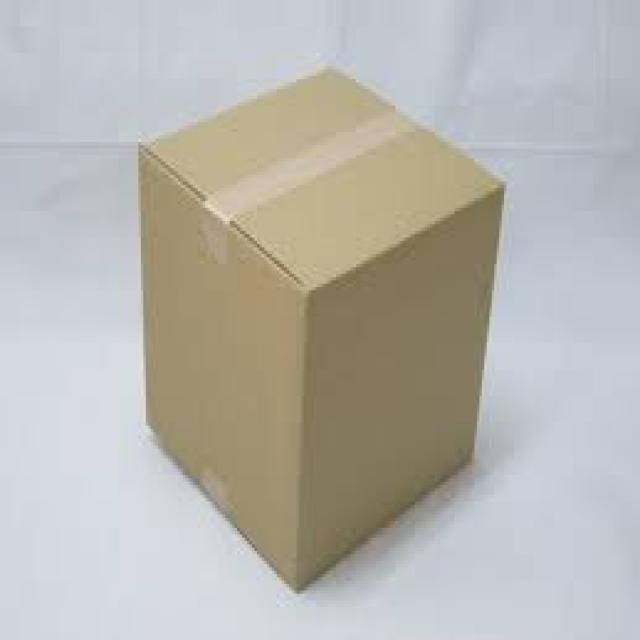cardboard: (138, 63, 504, 591)
